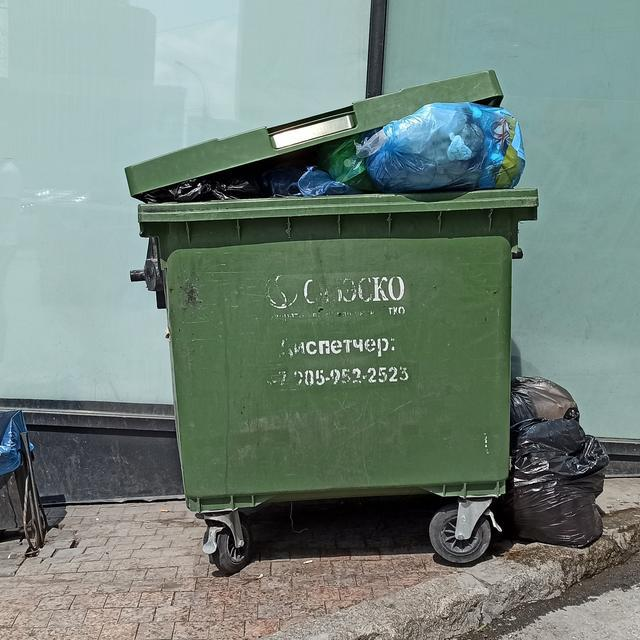Trash_Can_Full: (127, 68, 541, 515)
